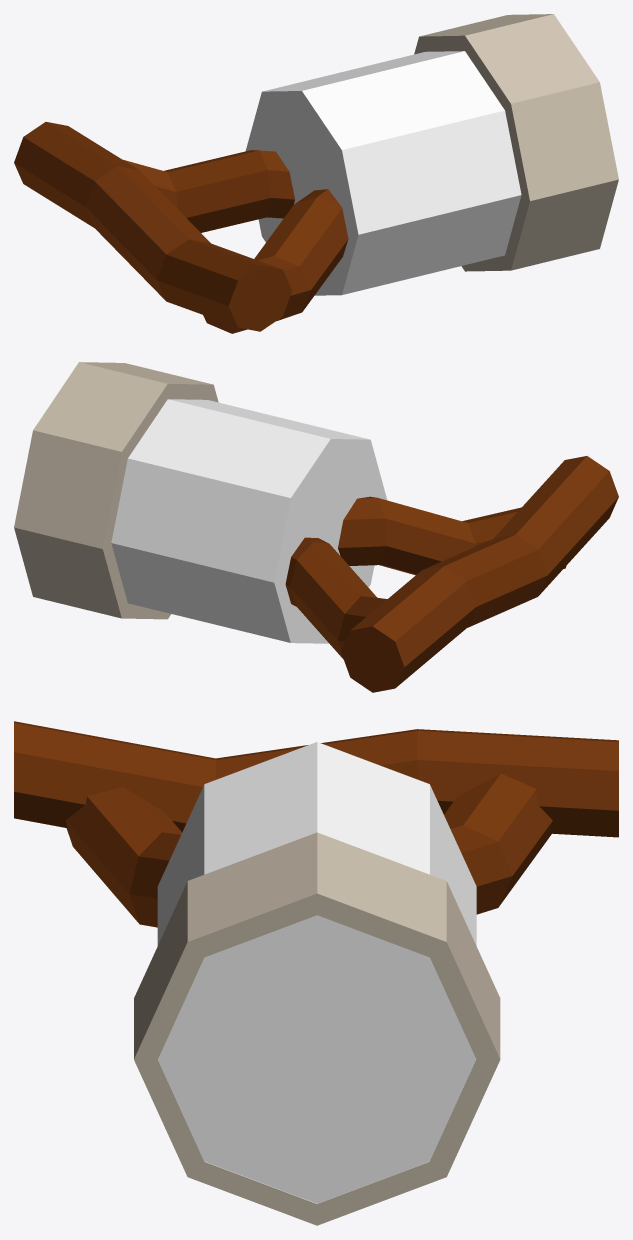
Rendered from Levier_petit.FBX.
The picture shows the model from 3 angles, top to bottom: view 1: azimuth 30°, elevation 25°; view 2: azimuth 150°, elevation 25°; view 3: azimuth 270°, elevation 25°; orthographic projection. The views are drawn at different scales.
Visible parts, largest first — view 1: Cylinder218; view 2: Cylinder218; view 3: Cylinder218.
Boxes of the visible parts, left/top/right/bottom form: Cylinder218: left=14, top=14, right=618, bottom=333; Cylinder218: left=14, top=362, right=618, bottom=692; Cylinder218: left=14, top=721, right=618, bottom=1225.
Bounding box in the file's own units: 174 × 90.55 × 149.
